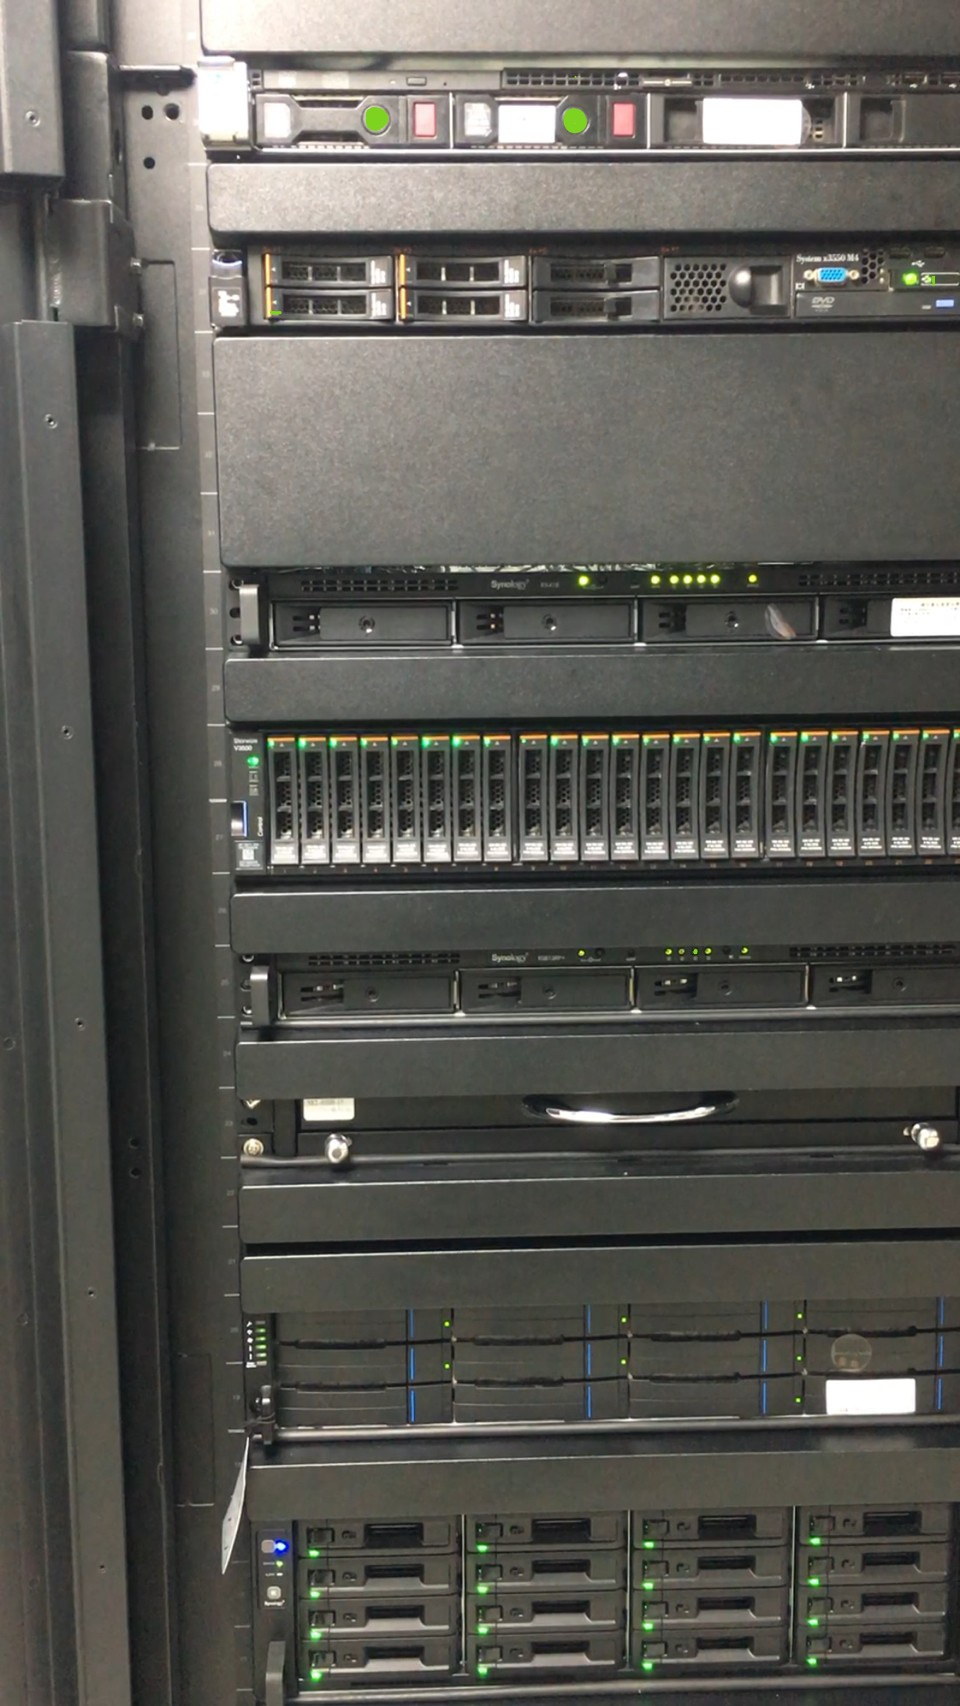HDD_Notused: (527, 245, 658, 286), (532, 288, 662, 327)
HDD_normal: (264, 279, 394, 328)
HDD_shut down: (399, 286, 532, 323), (400, 250, 527, 287), (263, 252, 392, 286)
